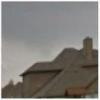chimneys: (83, 35, 93, 58)
